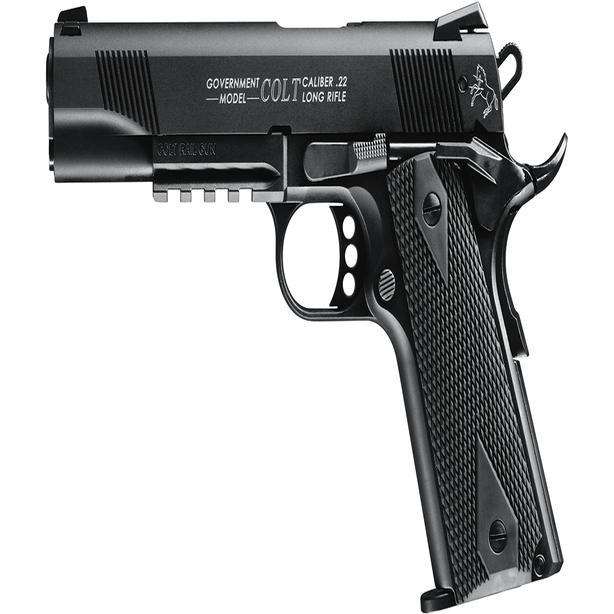Firearm: (32, 0, 582, 614)
